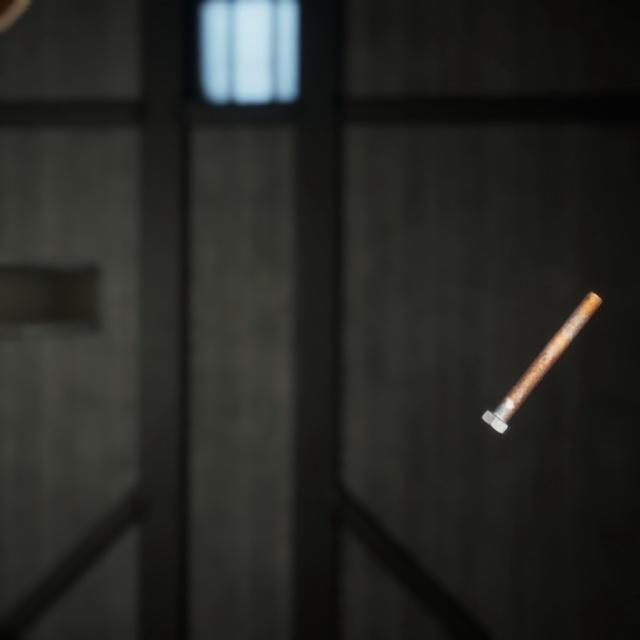bolt: (477, 268, 607, 421)
